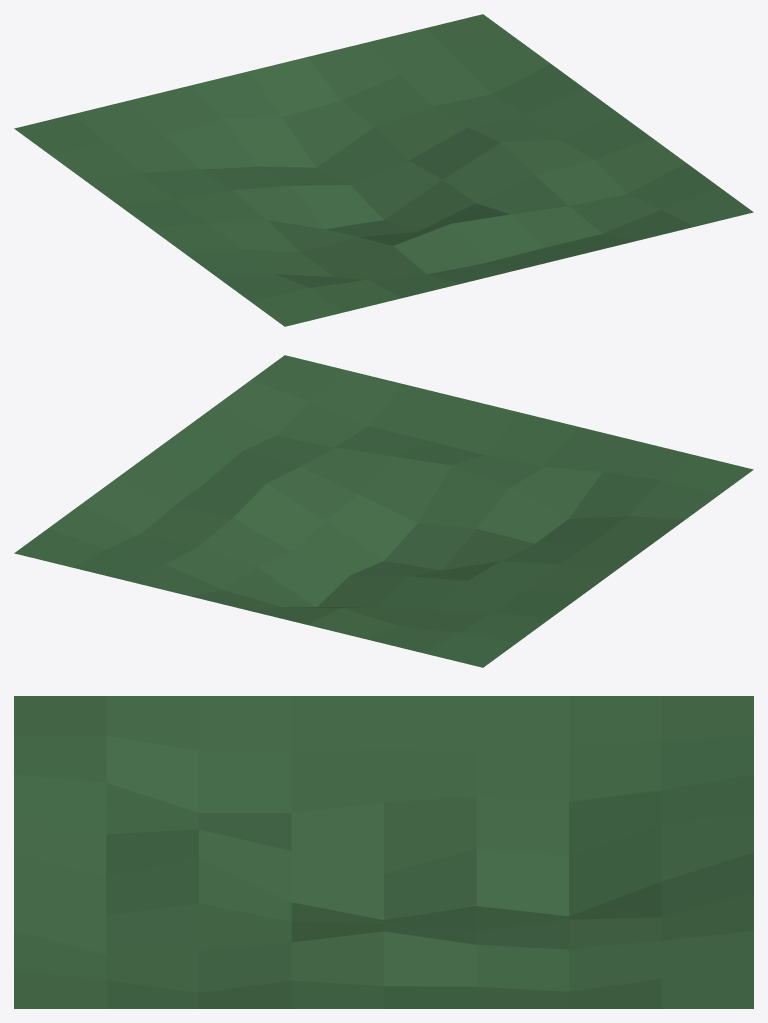
The model's file is Terrain_3_Light_Green.fbx.
3 views of the same model, one above another, from view 1: azimuth 30°, elevation 25°; view 2: azimuth 150°, elevation 25°; view 3: azimuth 270°, elevation 25° (orthographic). The views are drawn at different scales.
Parts seen in each view (by area): view 1: Terrain_3_Light_Green; view 2: Terrain_3_Light_Green; view 3: Terrain_3_Light_Green.
Boxes of the visible parts, x1=… form: Terrain_3_Light_Green: x1=14, y1=14, x2=753, y2=326; Terrain_3_Light_Green: x1=14, y1=355, x2=753, y2=667; Terrain_3_Light_Green: x1=14, y1=696, x2=753, y2=1008.
Size of the model in its own units: 2000 by 201 by 2000.
